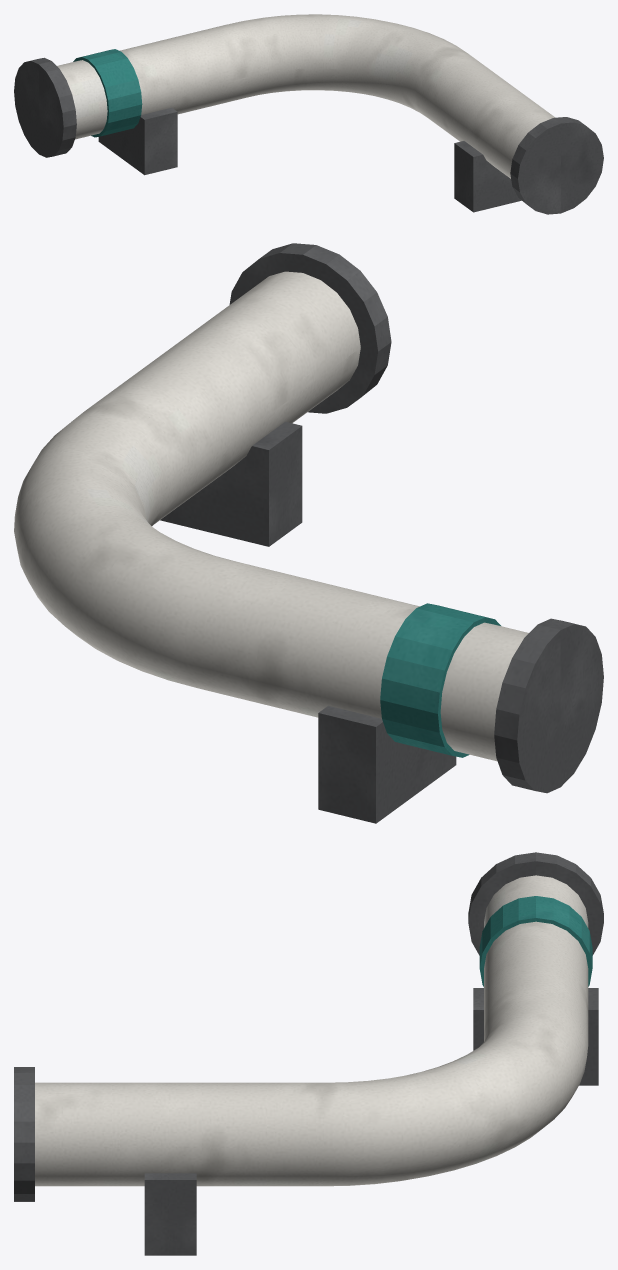
The model's file is pipe-elbow.glb.
3 renders of one model, top to bottom at view 1: azimuth 30°, elevation 25°; view 2: azimuth 150°, elevation 25°; view 3: azimuth 270°, elevation 25°, orthographic. The views are drawn at different scales.
Visible parts, largest first — view 1: PipeElbow_white, PipeElbow_gunmetal, PipeElbow_teal; view 2: PipeElbow_white, PipeElbow_gunmetal, PipeElbow_teal; view 3: PipeElbow_white, PipeElbow_gunmetal, PipeElbow_teal.
Boxes of the visible parts, x1,y1,x2,y2 form: PipeElbow_white: (57, 14, 554, 178); PipeElbow_gunmetal: (14, 57, 603, 214); PipeElbow_teal: (73, 49, 142, 137); PipeElbow_white: (14, 271, 528, 761); PipeElbow_gunmetal: (160, 243, 603, 823); PipeElbow_teal: (380, 603, 500, 757); PipeElbow_white: (35, 875, 588, 1186); PipeElbow_gunmetal: (14, 852, 603, 1255); PipeElbow_teal: (479, 896, 592, 986).
Bounding box in the file's own units: 1.13 × 0.33 × 1.13.
Materials: 3 (3 with a texture image).
